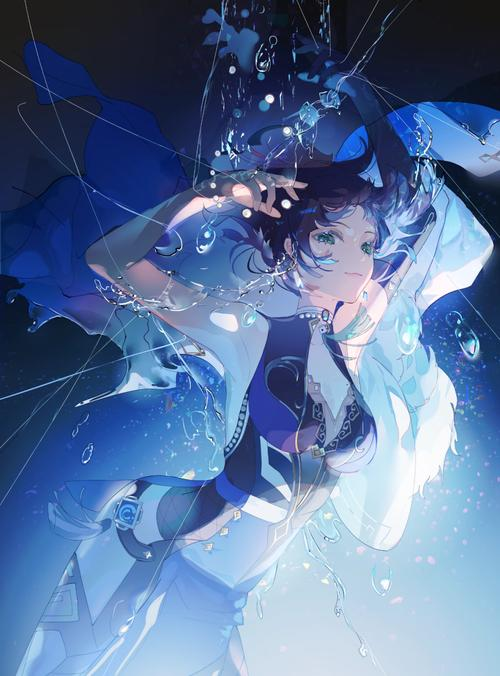夜兰: (21, 12, 439, 673)
